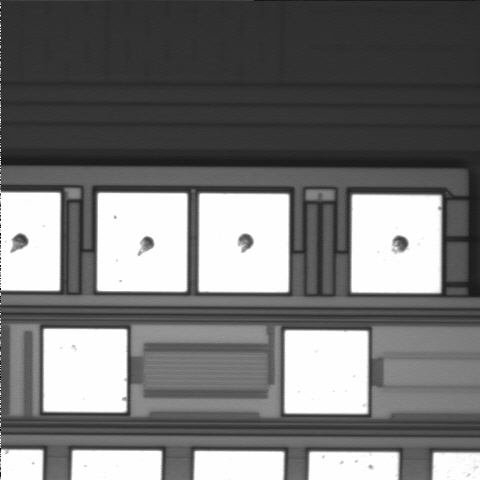pad: (97, 193, 187, 292), (199, 193, 289, 292), (351, 195, 441, 293), (285, 330, 368, 414), (44, 329, 127, 412)
